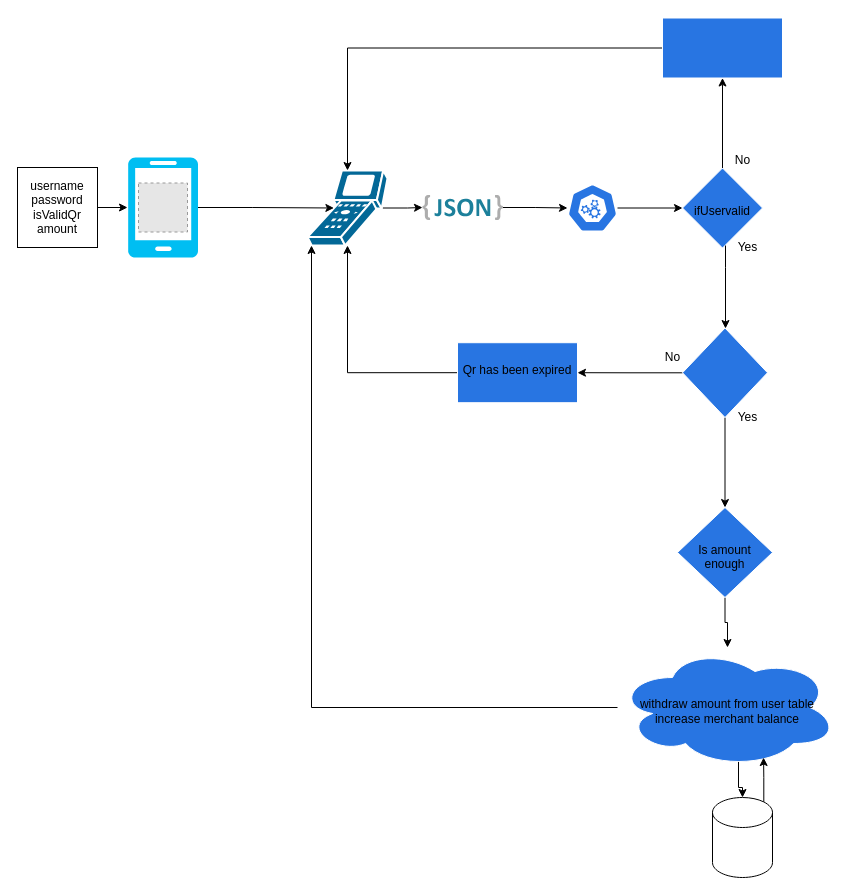
This 855x895 diagram has some shape labels left out. Grey dashed boxes stand in for pictures. Each missing label, with the box of its shape:
DB: (712, 796, 772, 878)
Is QR valid: (682, 327, 768, 418)
User or password is not true: (662, 17, 782, 78)
